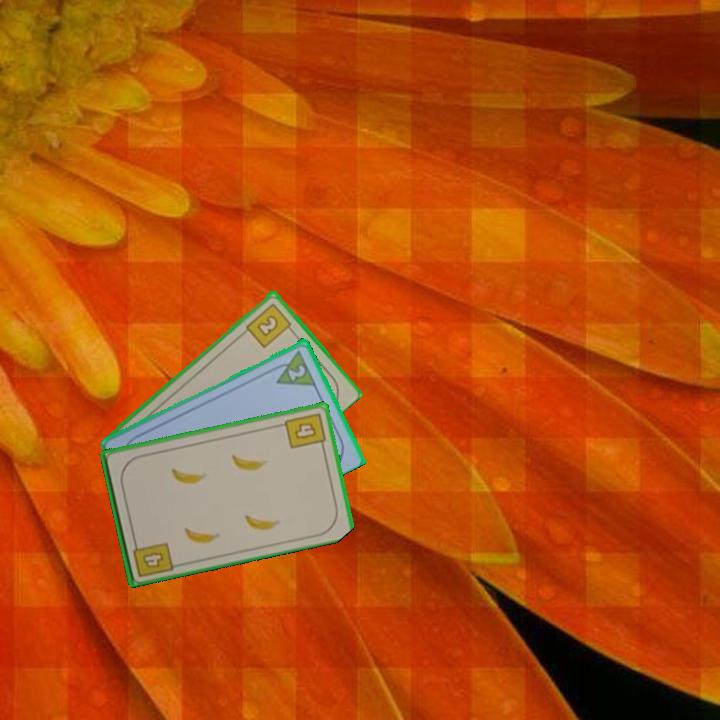2b: (242, 299, 297, 350)
2p: (267, 346, 319, 389)
4b: (129, 535, 176, 580), (281, 409, 328, 451)
